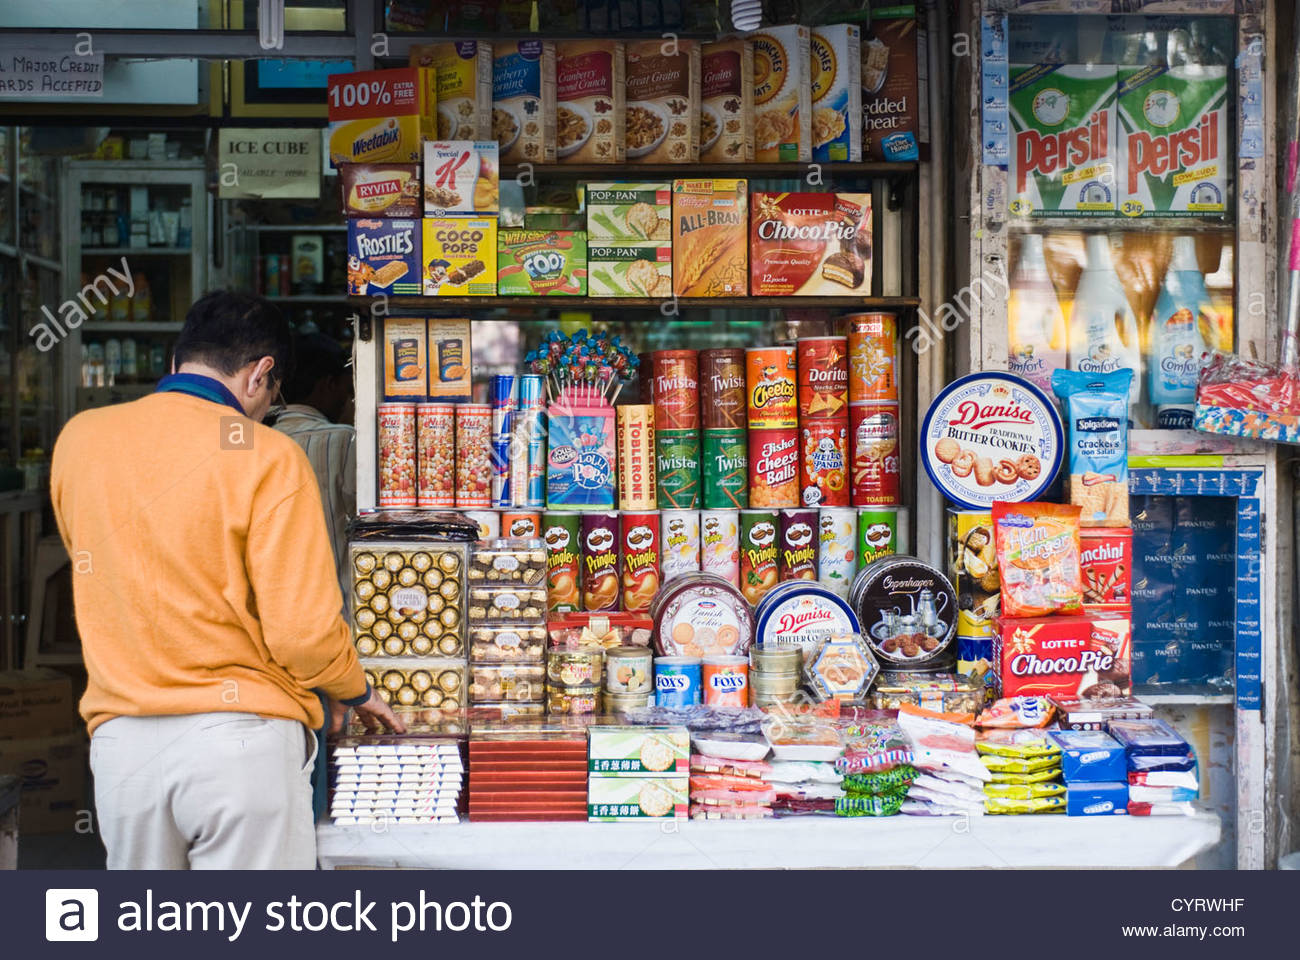Not_Face: (186, 294, 288, 423)
